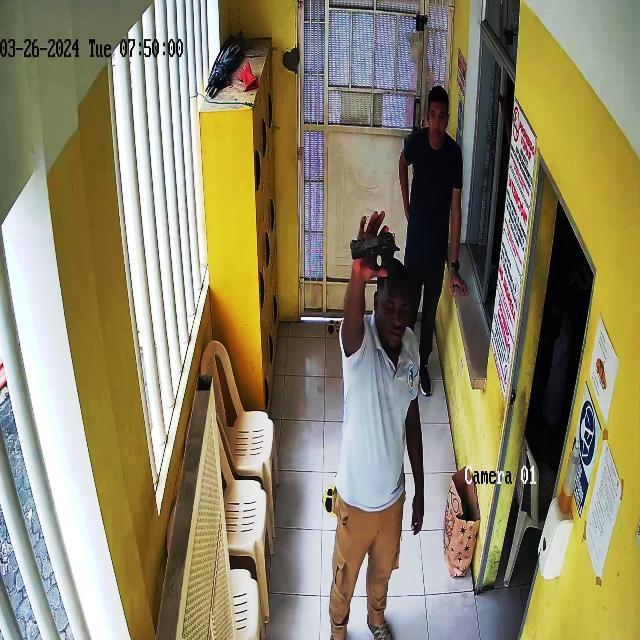Gun: (339, 215, 409, 293)
